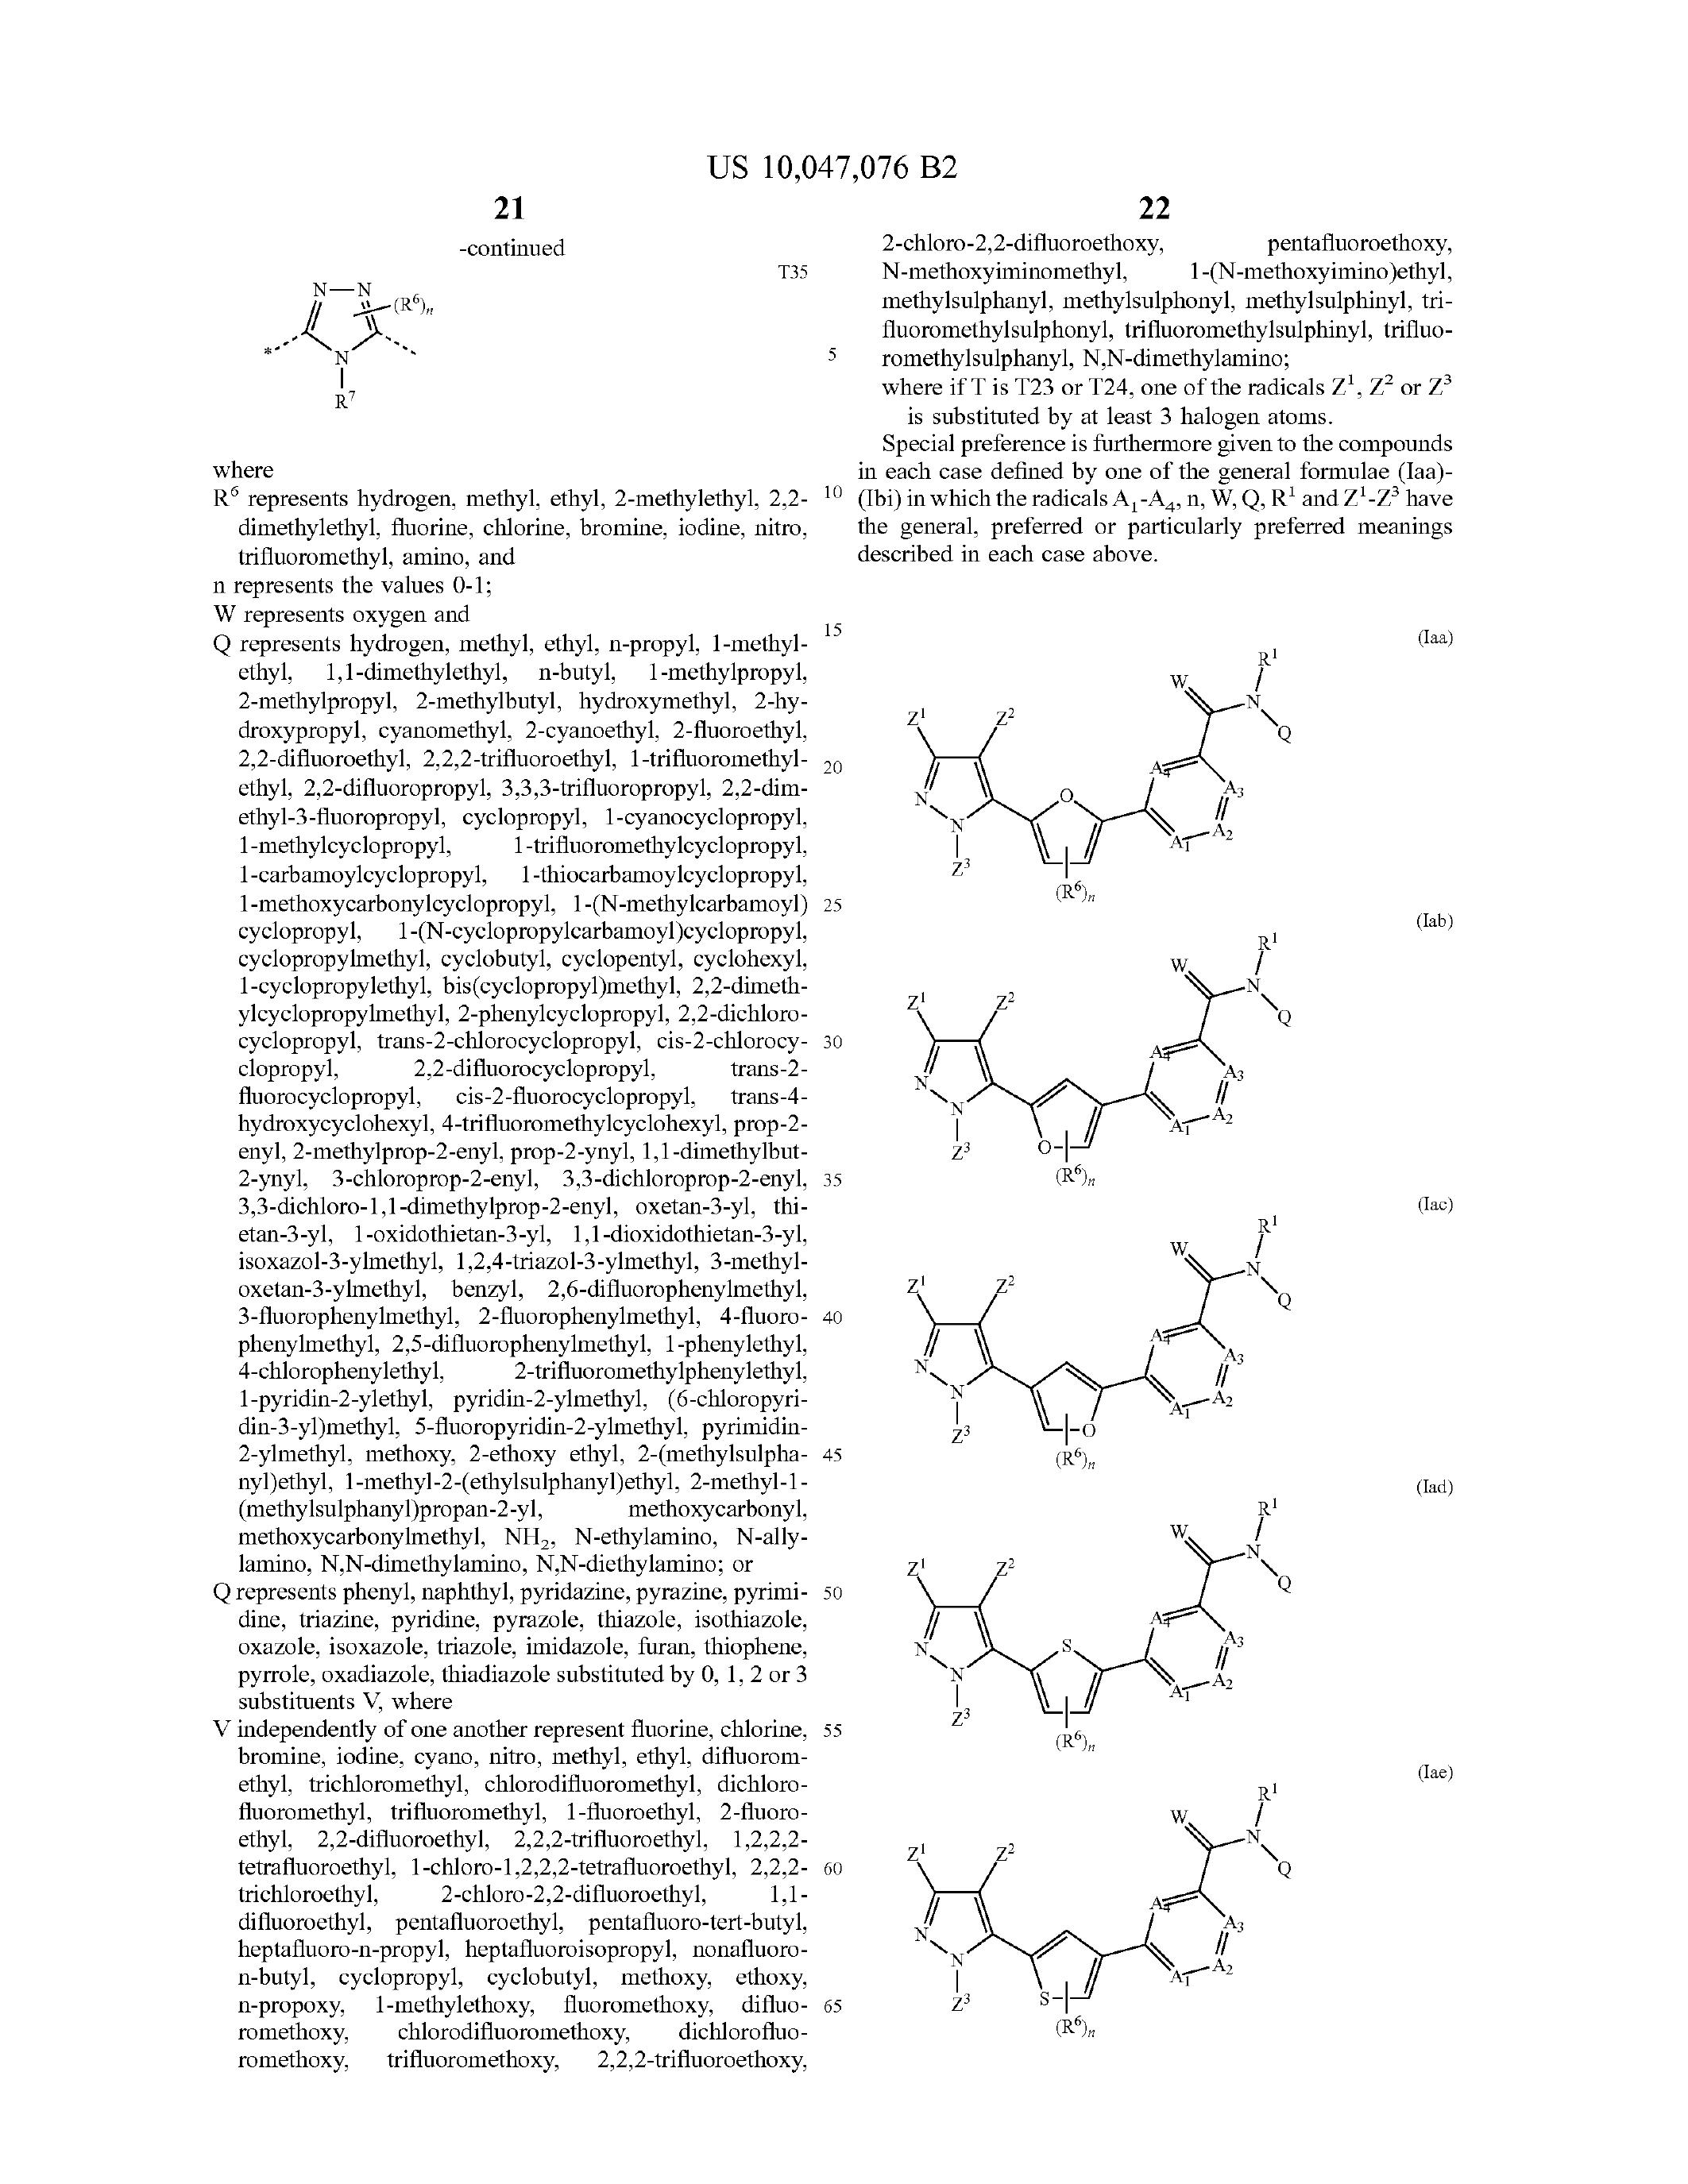relevant-structures: (872, 1798, 1418, 2071), (865, 952, 1403, 1204), (878, 1509, 1374, 1764), (892, 642, 1360, 906), (878, 1243, 1397, 1462)
